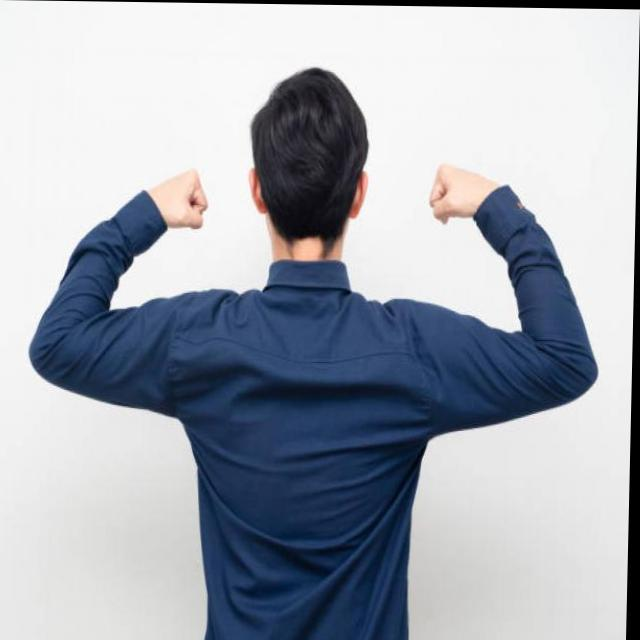no helmet: (244, 64, 374, 252)
